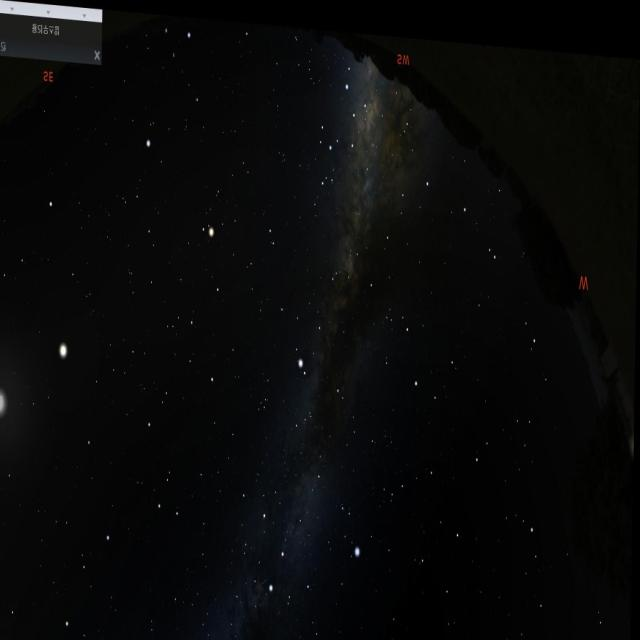aquila: (275, 241, 351, 376)
cygnus: (261, 446, 328, 606)
lyra: (334, 473, 366, 564)
moon: (0, 362, 20, 424)
sagittarius: (325, 60, 377, 162)
